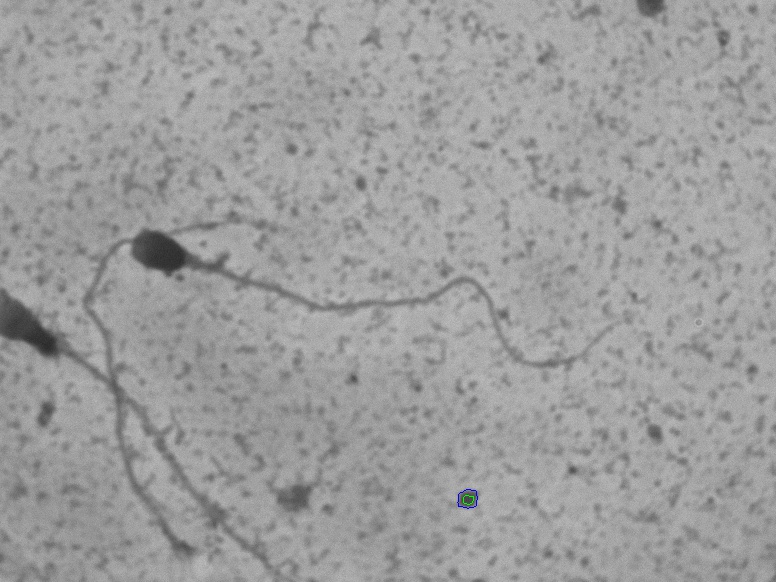Normal: (126, 215, 629, 386)
